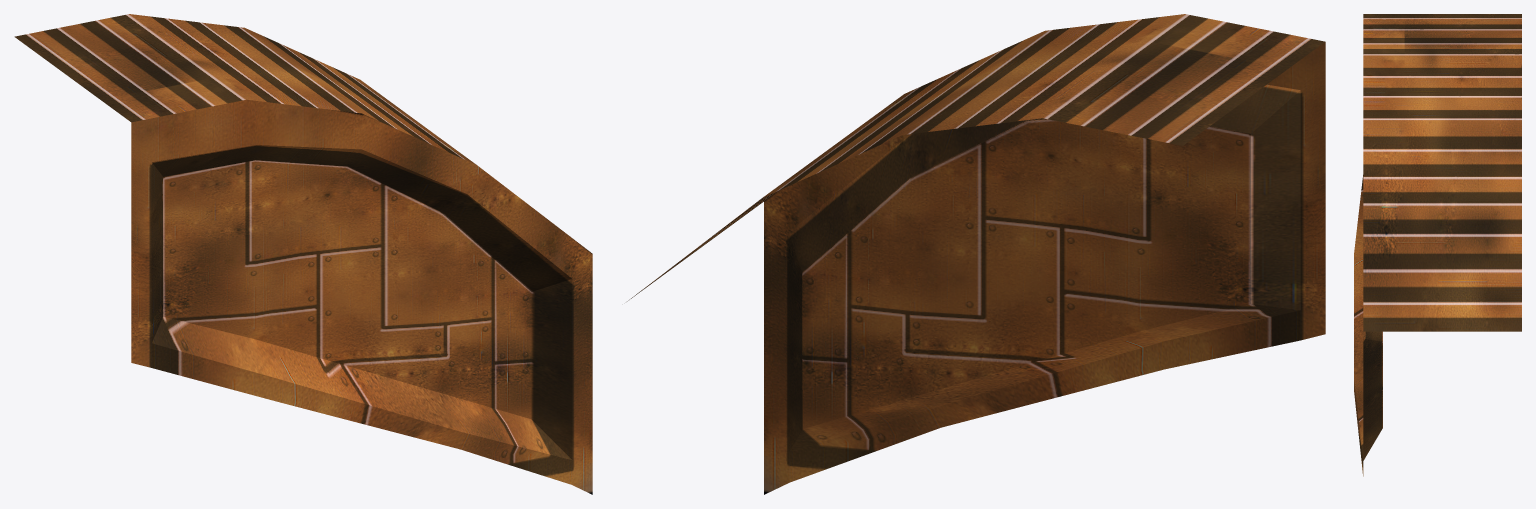
Rendered from floorDown3.fbx.
3 views of the same model, side by side, from view 1: azimuth 30°, elevation 25°; view 2: azimuth 150°, elevation 25°; view 3: azimuth 270°, elevation 25° (orthographic). The views are drawn at different scales.
Visible parts, largest first — view 1: pCube35; view 2: pCube35; view 3: pCube35.
Boxes of the visible parts, x1,y1,x2,y2 form: pCube35: [14, 14, 592, 494]; pCube35: [627, 14, 1325, 494]; pCube35: [1354, 14, 1521, 476].
Bounding box in the file's own units: 16 × 16.07 × 7.44.
